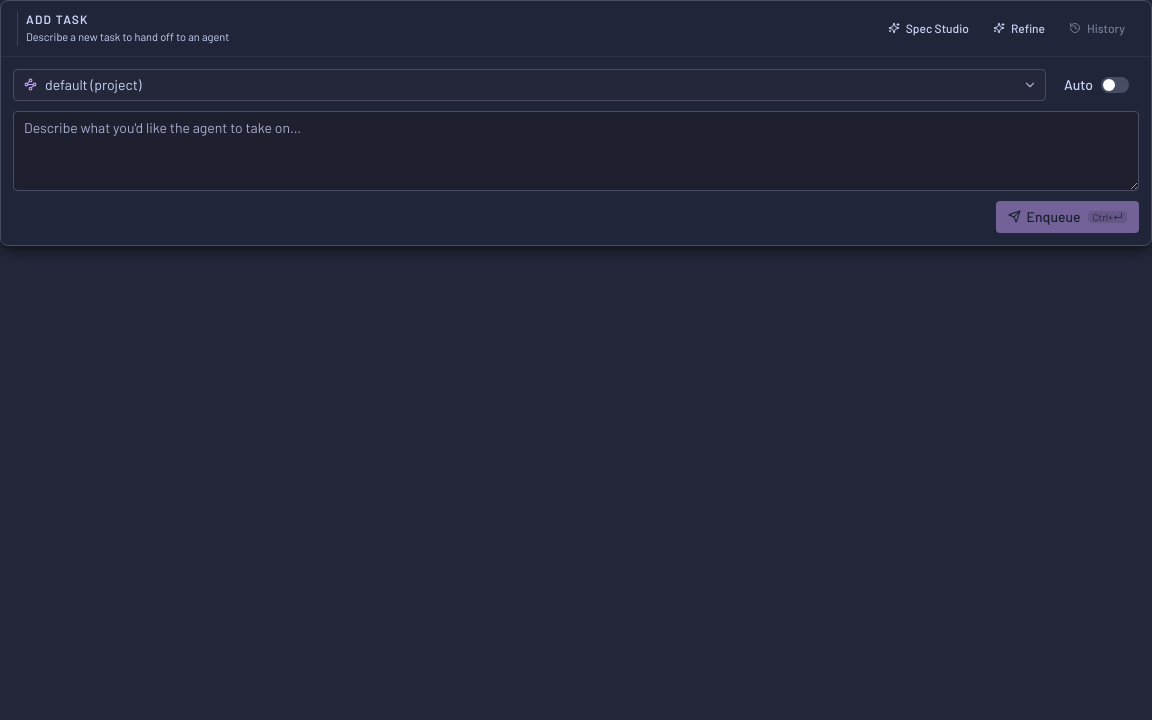
PromptComposer composer assist handoff › focuses Cancel when conflict dialog opens
Type "Existing task draft." into the text box with placeholder "Describe what you'd like the agent to take on…".
click(576, 150); type("Existing task draft.")  # box [13,110,1139,190]
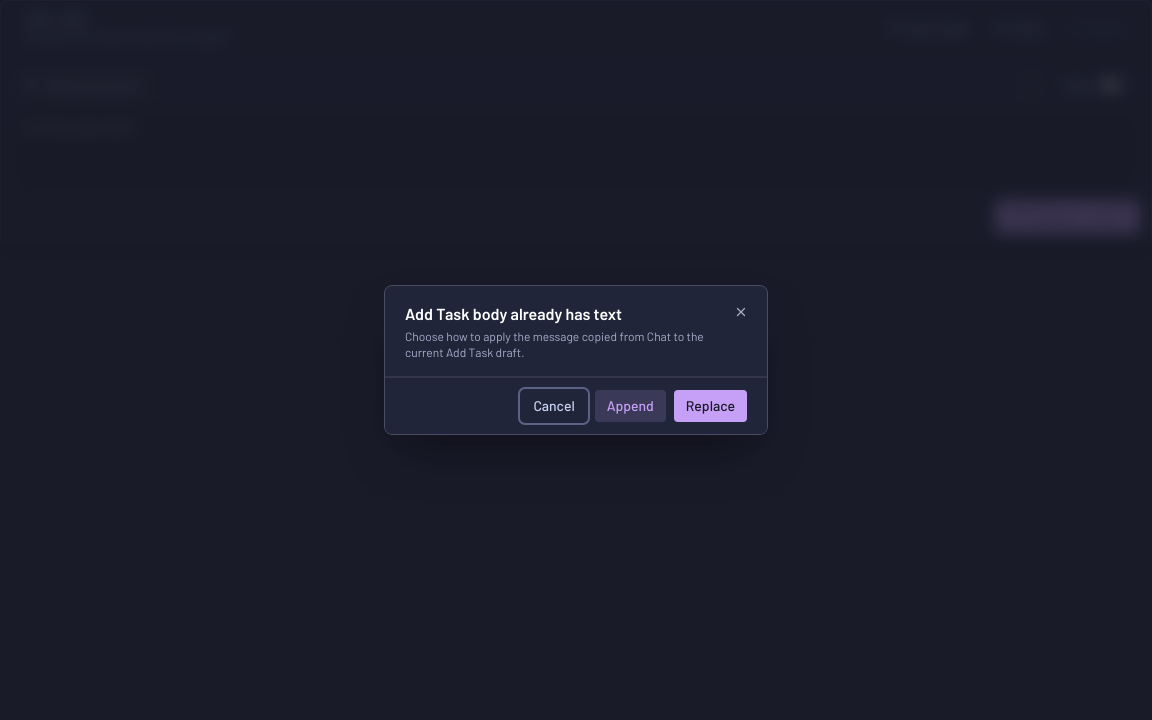
Check: the heading "Add Task body already has text" is shown, box [405,304,622,323]
